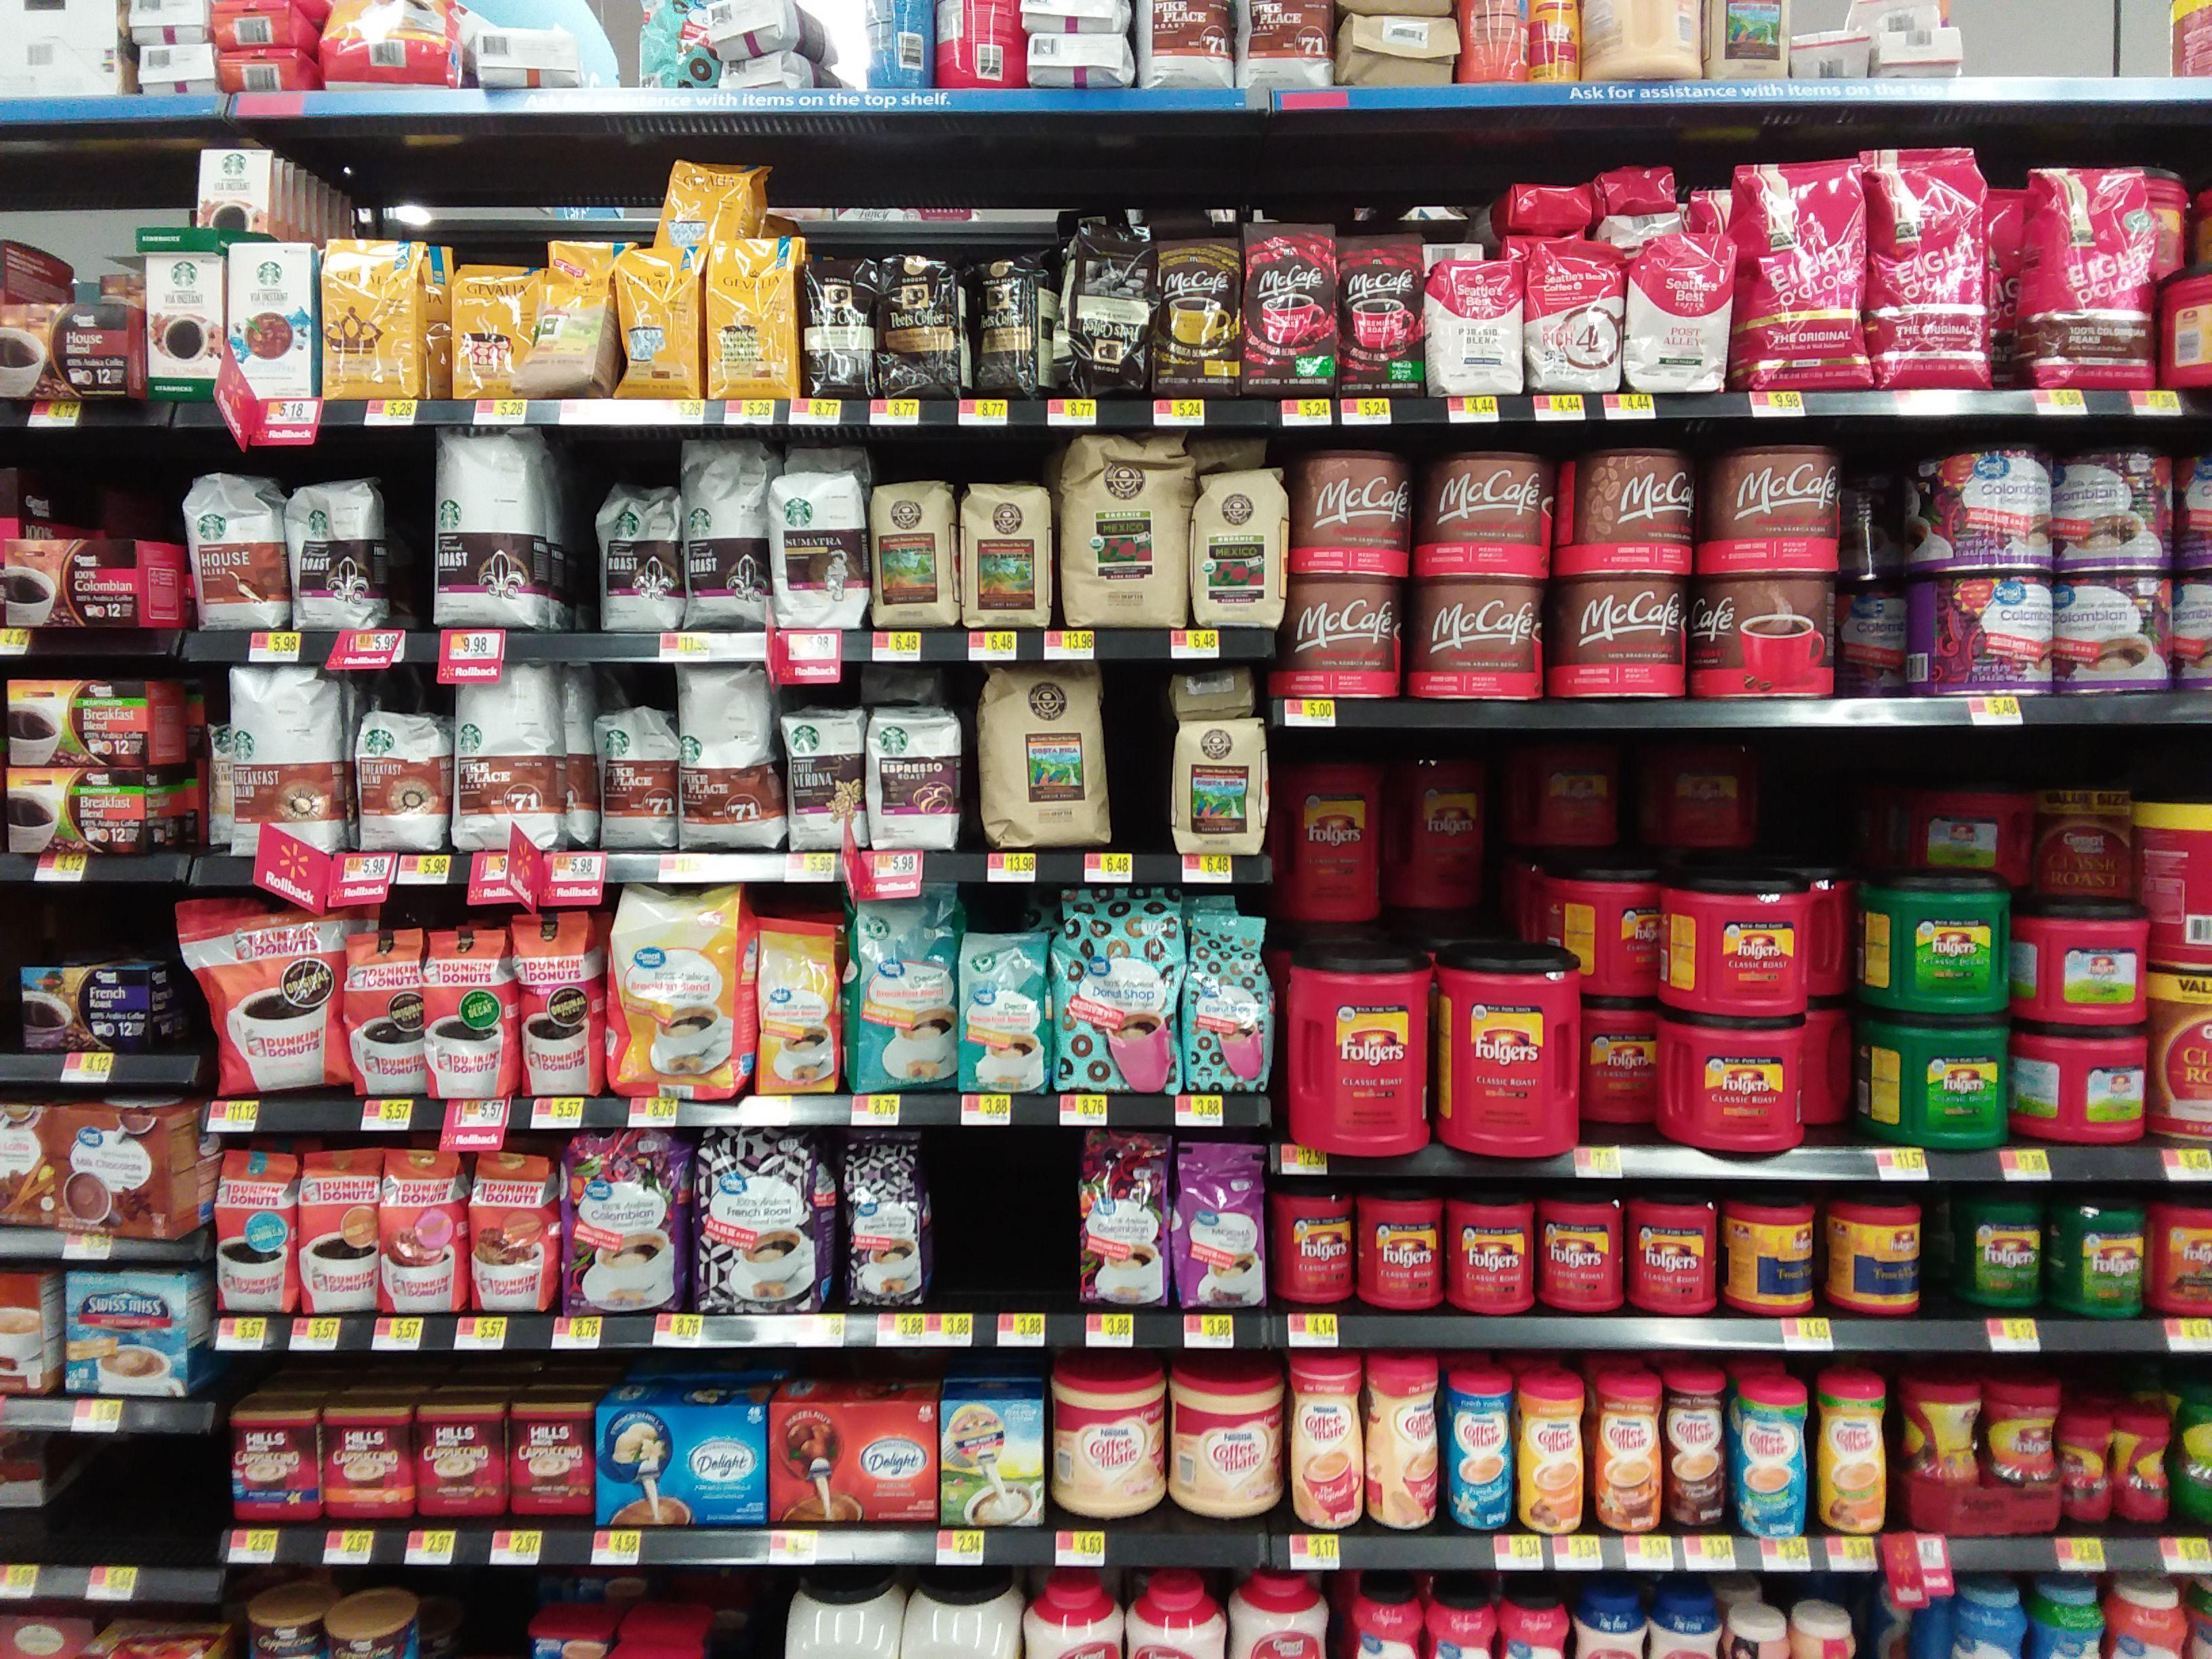misalignment: (1789, 0, 1970, 82), (655, 160, 765, 239), (470, 21, 580, 94), (637, 0, 725, 89)
